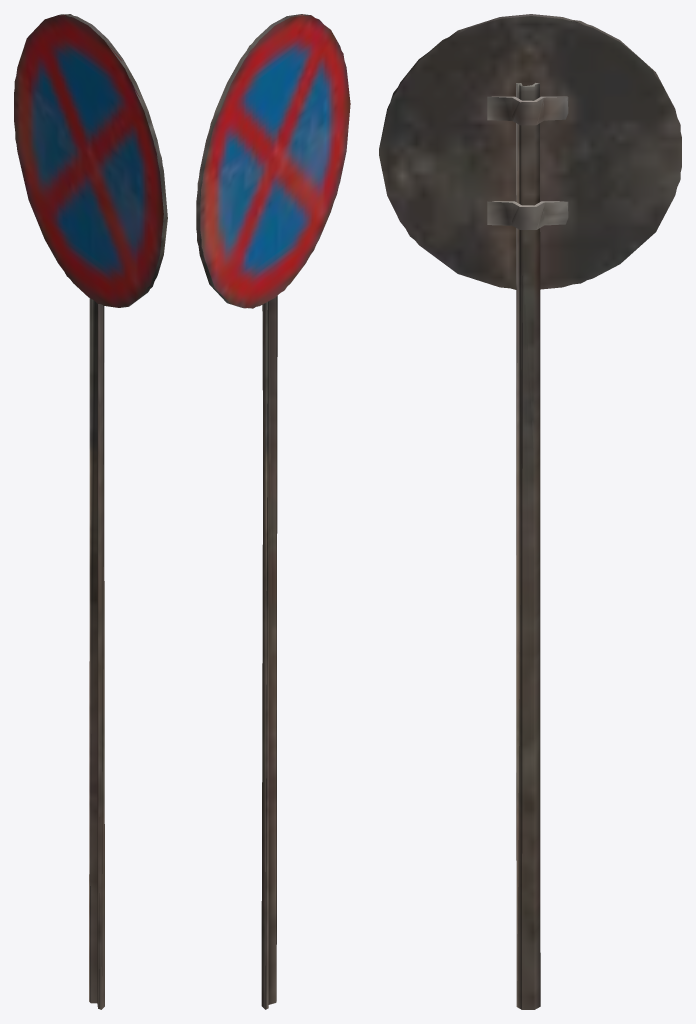
Rendered from sm_trafficsign02.glb.
3 views of the same model, side by side, from view 1: azimuth 30°, elevation 25°; view 2: azimuth 150°, elevation 25°; view 3: azimuth 270°, elevation 25° (orthographic).
Visible parts, largest first — view 1: sm_trafficsign02_00, sm_trafficsign02_01; view 2: sm_trafficsign02_00, sm_trafficsign02_01; view 3: sm_trafficsign02_00, sm_trafficsign02_01.
Boxes of the visible parts, bbox=[...] form: sm_trafficsign02_00: bbox=[14, 14, 167, 1009]; sm_trafficsign02_01: bbox=[14, 14, 162, 1008]; sm_trafficsign02_00: bbox=[196, 14, 350, 1009]; sm_trafficsign02_01: bbox=[197, 14, 344, 1009]; sm_trafficsign02_00: bbox=[379, 14, 681, 1009]; sm_trafficsign02_01: bbox=[390, 17, 680, 1006].
Size of the model in its own units: 0.0306 by 1.86 by 0.5142.
1 material, 1 textured.
